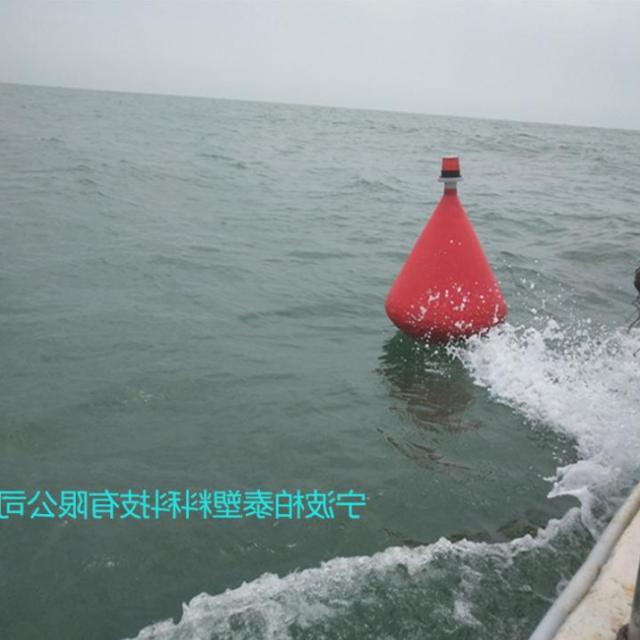buoy: (385, 150, 507, 341)
